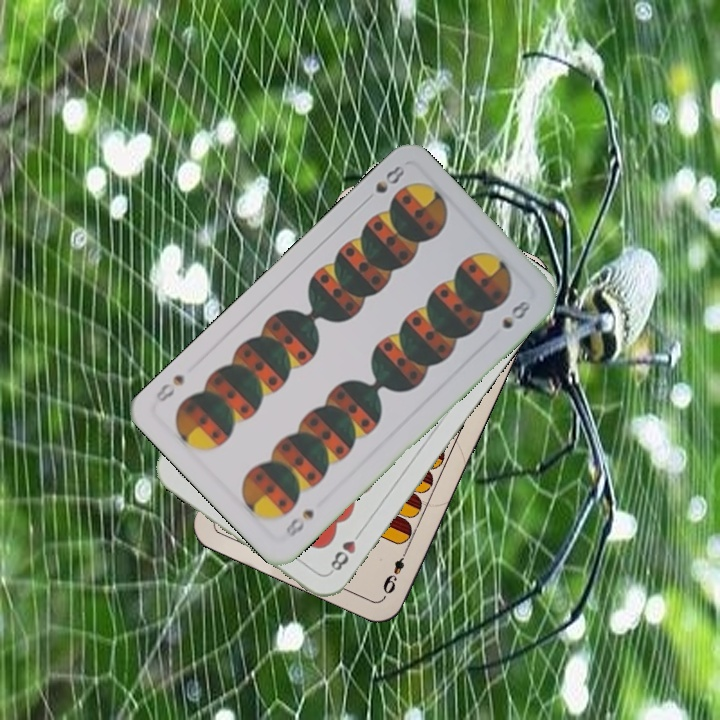E9: (378, 544, 412, 597)
H8: (325, 525, 366, 576)
S8: (359, 160, 408, 207), (281, 505, 317, 540)
